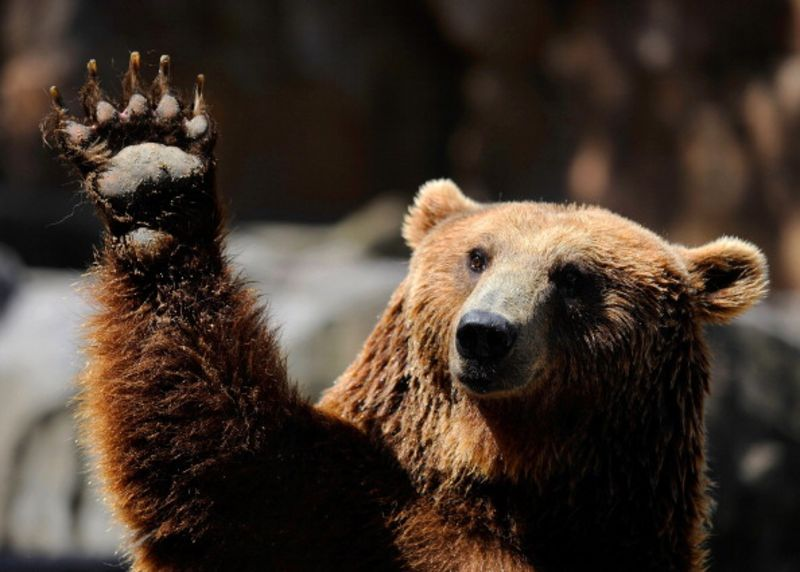bear: (398, 172, 772, 399)
